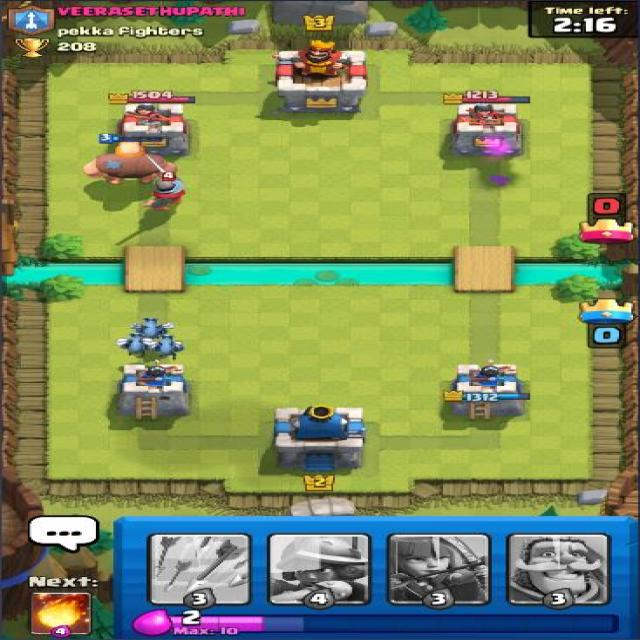Enemy-Knight: (131, 153, 190, 210)
Player-Giant: (82, 132, 181, 187)
Player-Minion: (143, 332, 187, 361), (127, 315, 176, 341), (115, 331, 161, 358)
